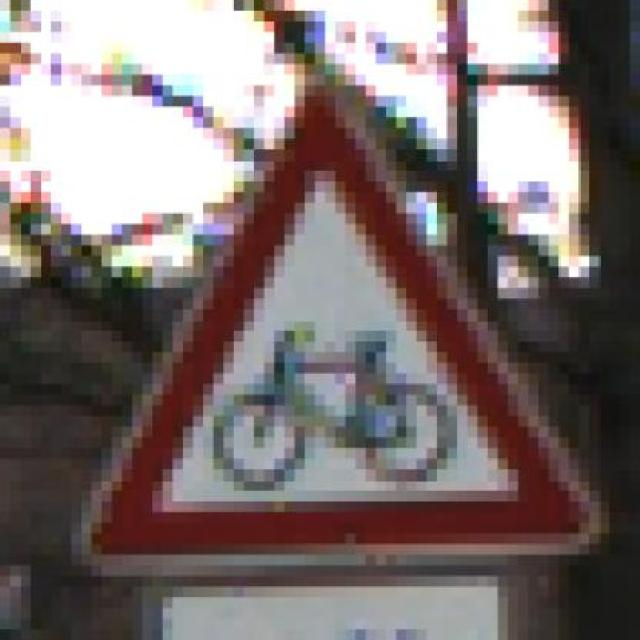CYCLE ROUTE AHEAD WARNING: (41, 86, 610, 554)
